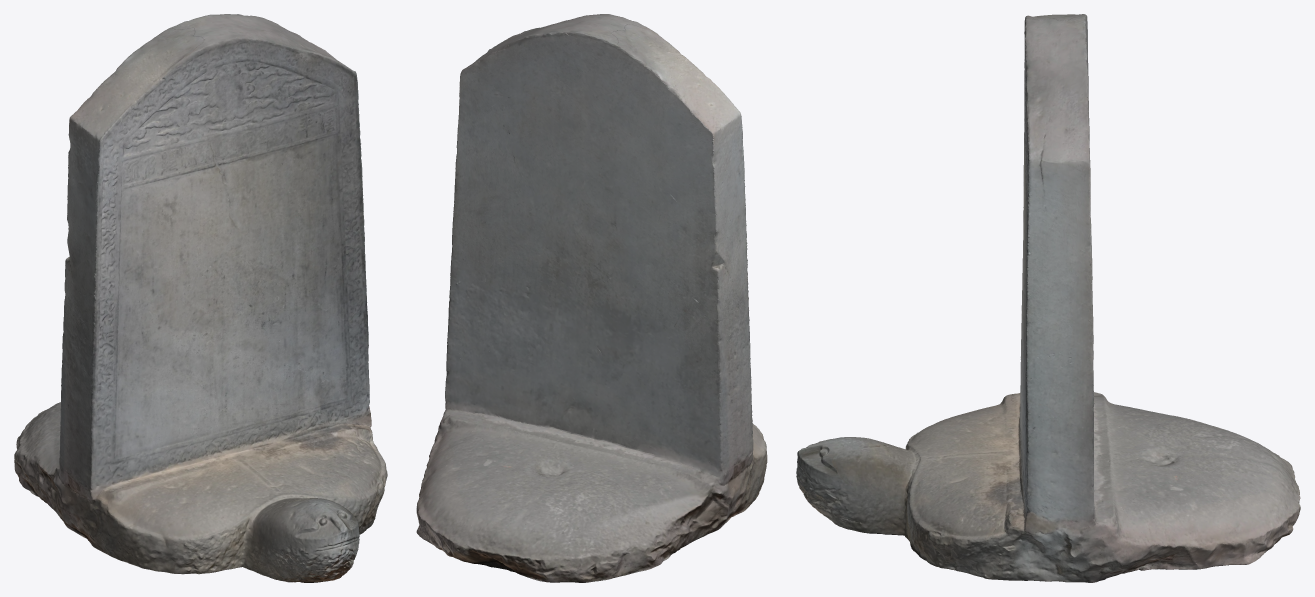
Rendered from bia-1554.glb.
The picture shows the model from 3 angles, left to right: view 1: azimuth 30°, elevation 25°; view 2: azimuth 150°, elevation 25°; view 3: azimuth 270°, elevation 25°; orthographic projection. The views are drawn at different scales.
Parts seen in each view (by area): view 1: 5-1554; view 2: 5-1554; view 3: 5-1554.
Boxes of the visible parts, x1,y1,x2,y2 form: 5-1554: [14, 14, 387, 582]; 5-1554: [416, 14, 767, 582]; 5-1554: [796, 14, 1300, 582].
Size of the model in its own units: 0.6352 by 1 by 0.9332.
Materials: 1 (1 with a texture image).
